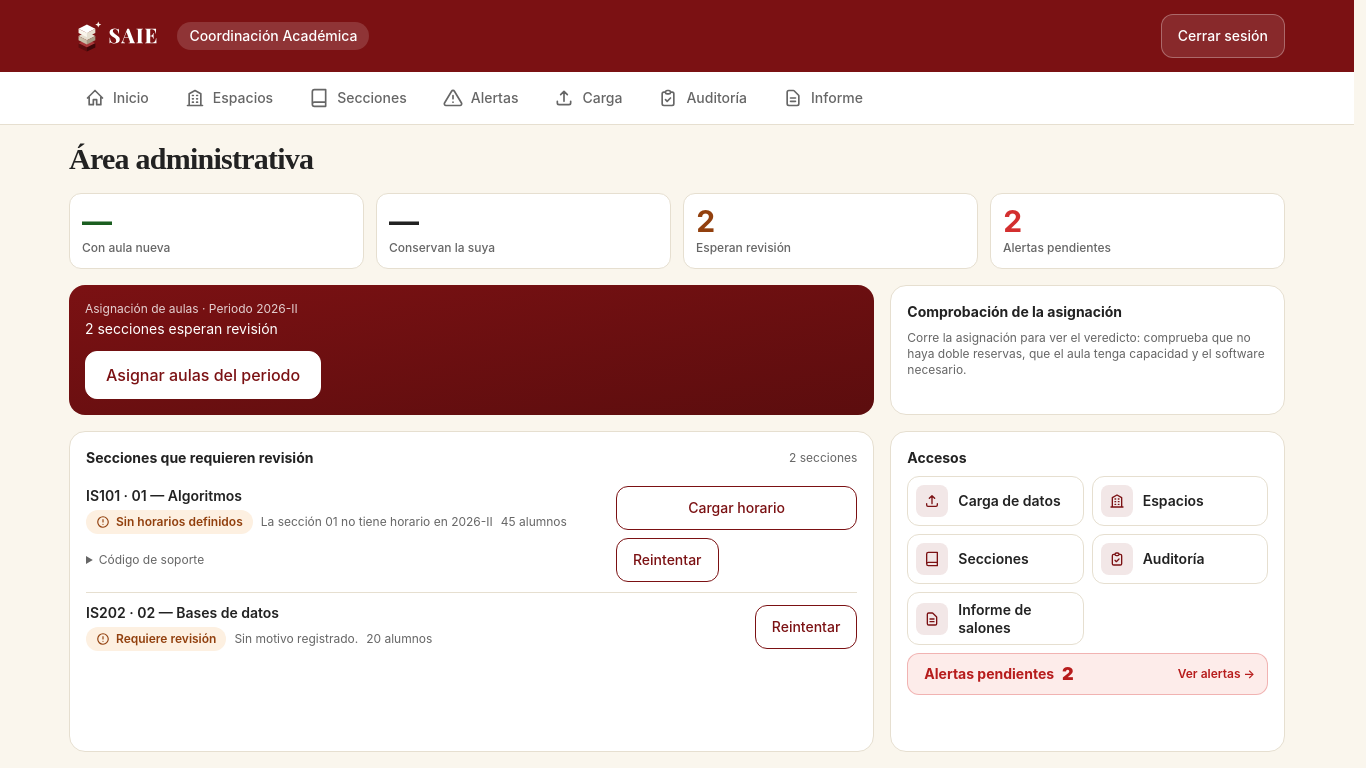
Test case: Inicio del panel administrativo › Coordinación (Issue 4.20) › avisa cuando la corrida no dejó asignaciones que verificar
expect the text "IS101 · 01 — Algoritmos" is shown: met, box [86, 487, 242, 504]
Click the button "Asignar aulas del periodo" at (203, 375), box [85, 351, 321, 399]
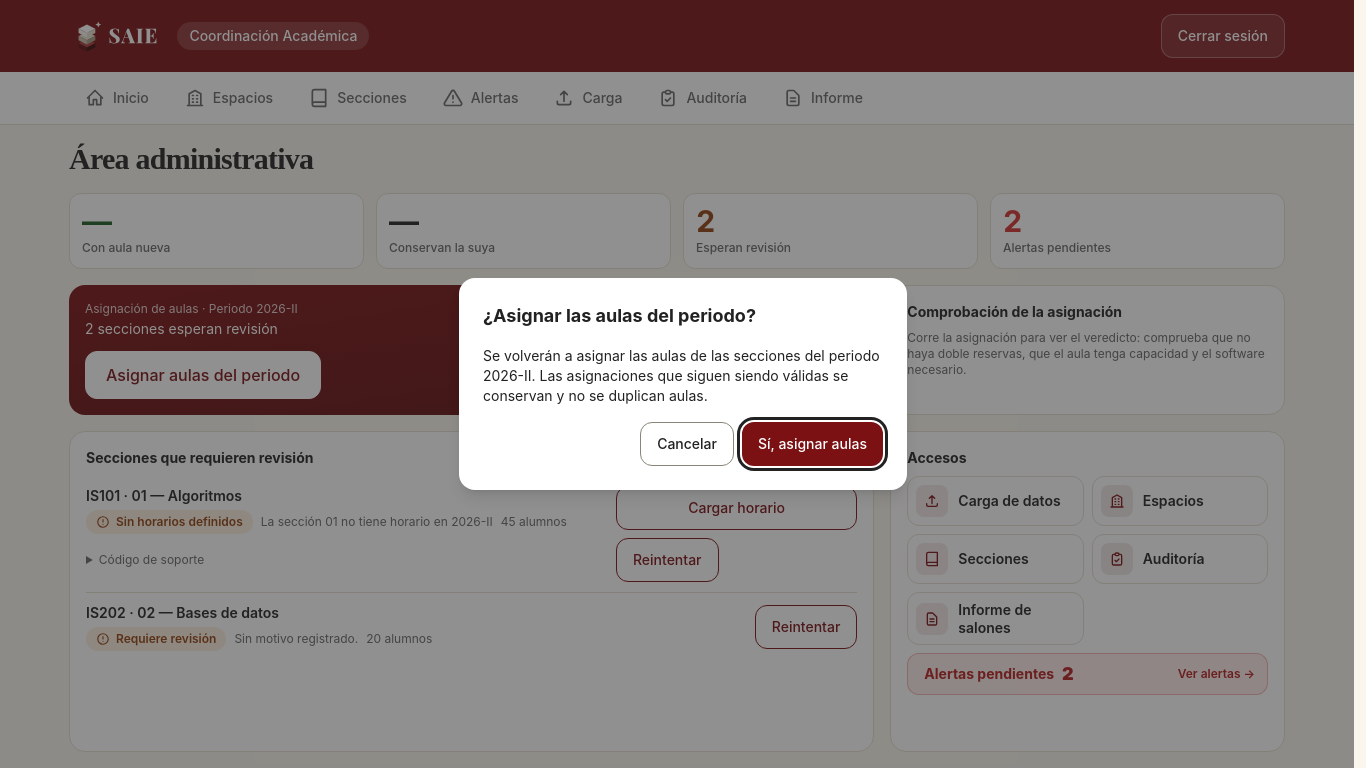
Click the button "Sí, asignar aulas" at (812, 444), box [742, 422, 883, 466]
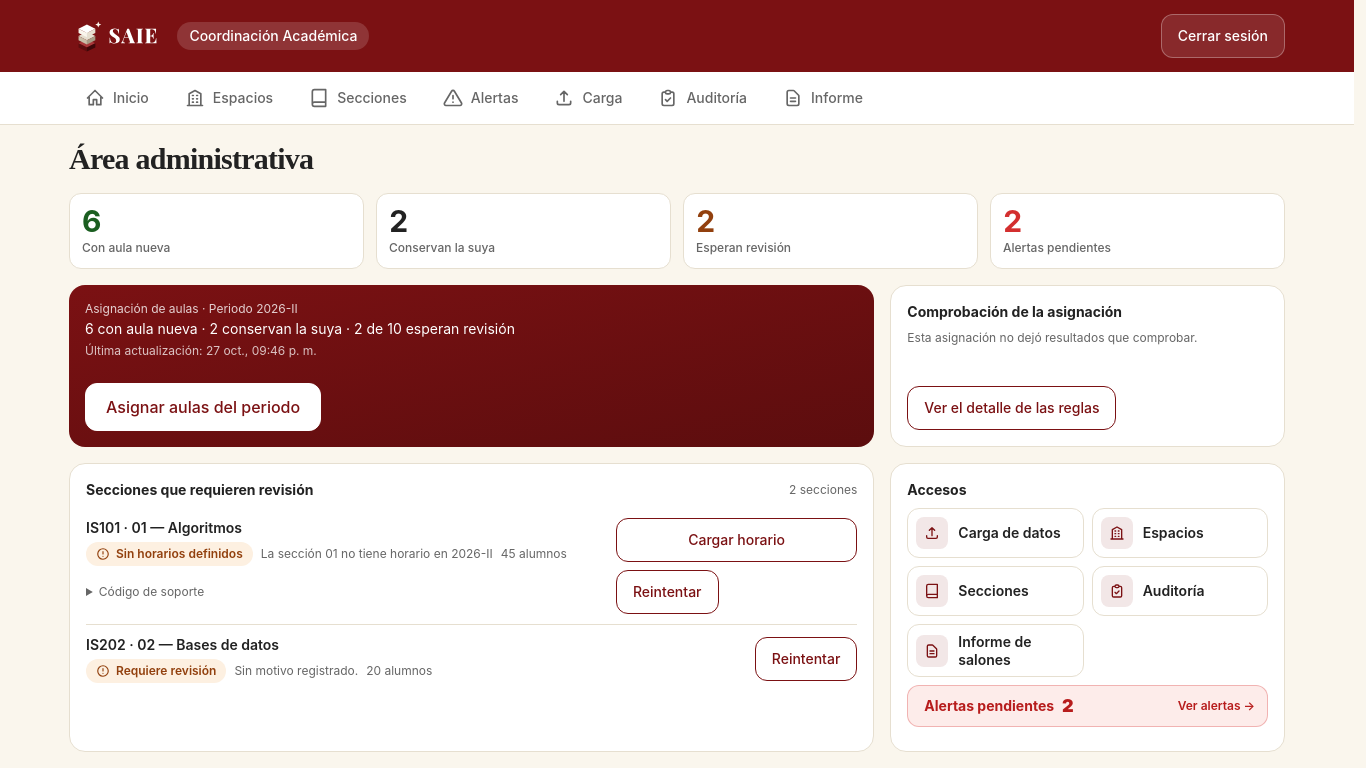
# Y el aviso completo de la corrida vive en el drawer.
Click the button "Ver el detalle de las reglas" at (1012, 408), box [907, 386, 1116, 430]
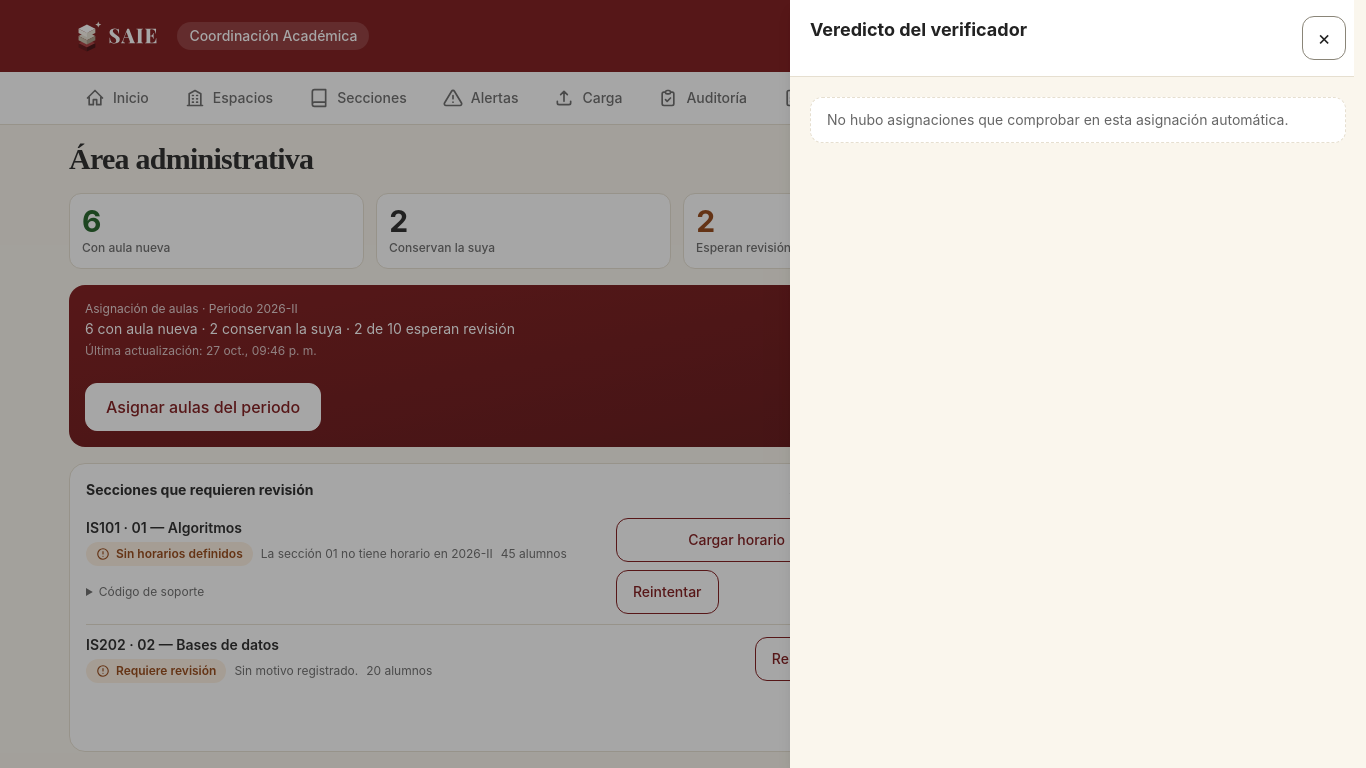
expect the text "No hubo asignaciones que comprobar en esta asignación automática." is shown: met, box [810, 97, 1346, 143]
